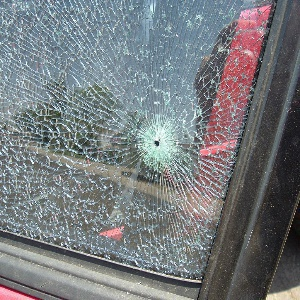bumper_scratch: (52, 124, 253, 192)
